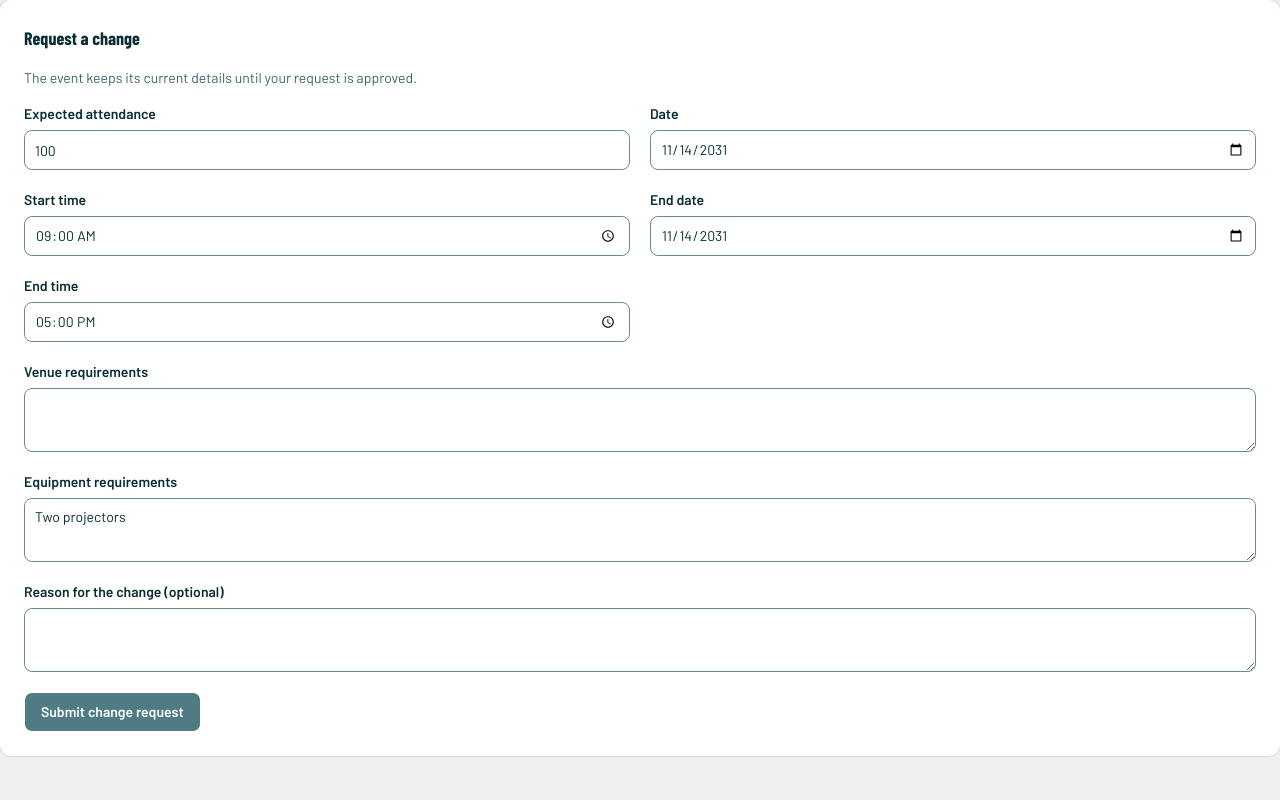
Test: SCRUM-66/AC4 no detail changed › does not submit and says no changes were made
Click the button "Submit change request": click(112, 712) [24, 692, 201, 732]
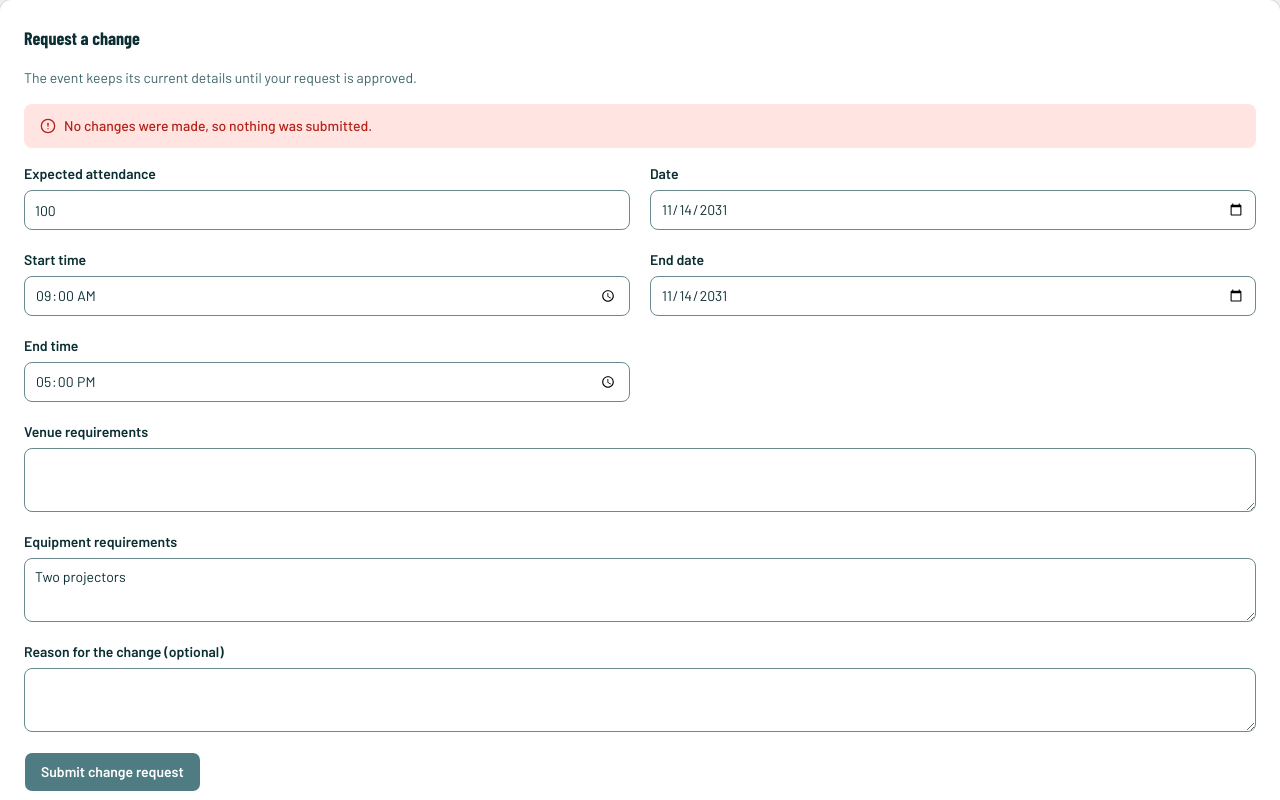
Result: the message shows "No changes were made" at [64, 117, 372, 134]
